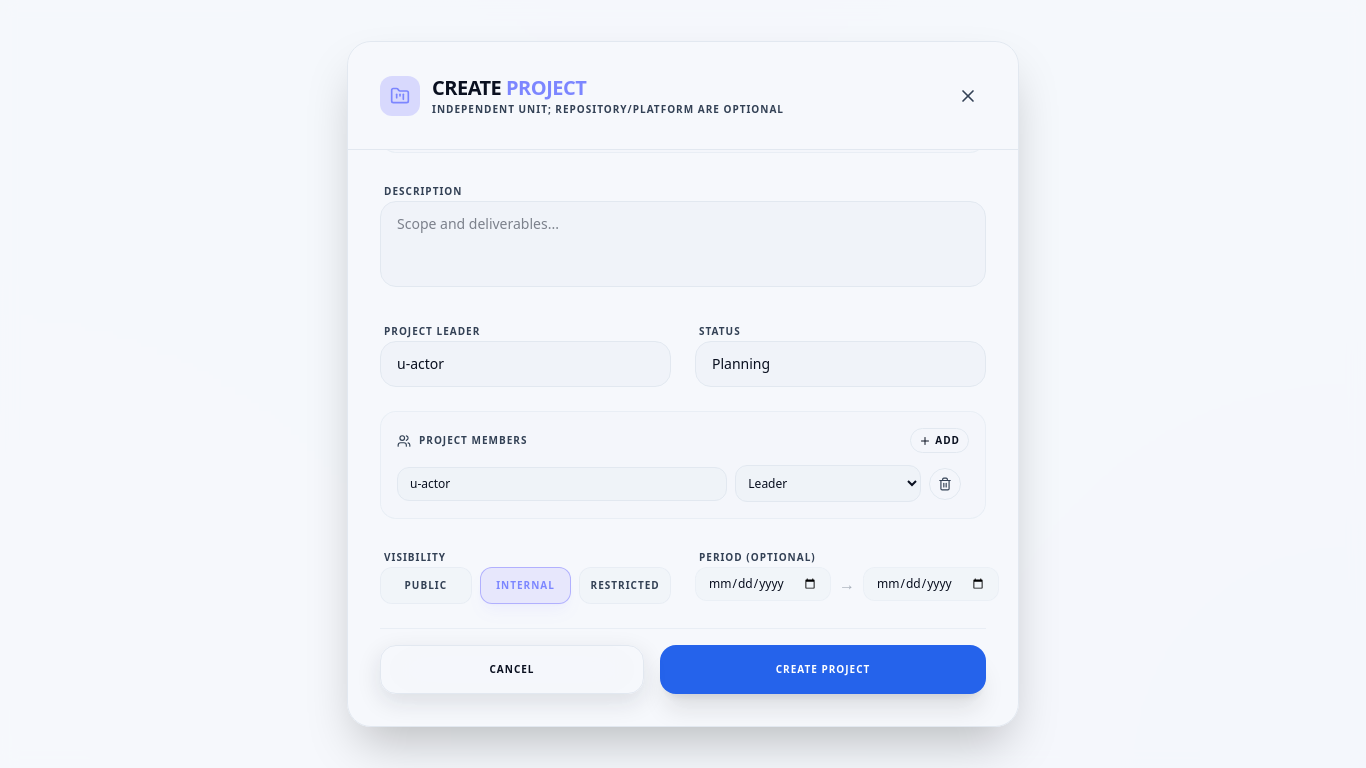
Scenario: ProjectCreationModal › changes a non-leader role without affecting leader assignment
The image size is (1366, 768).
(page scrolled)
Click the button "Add" at (940, 440), box [910,428,969,453]
(page scrolled)
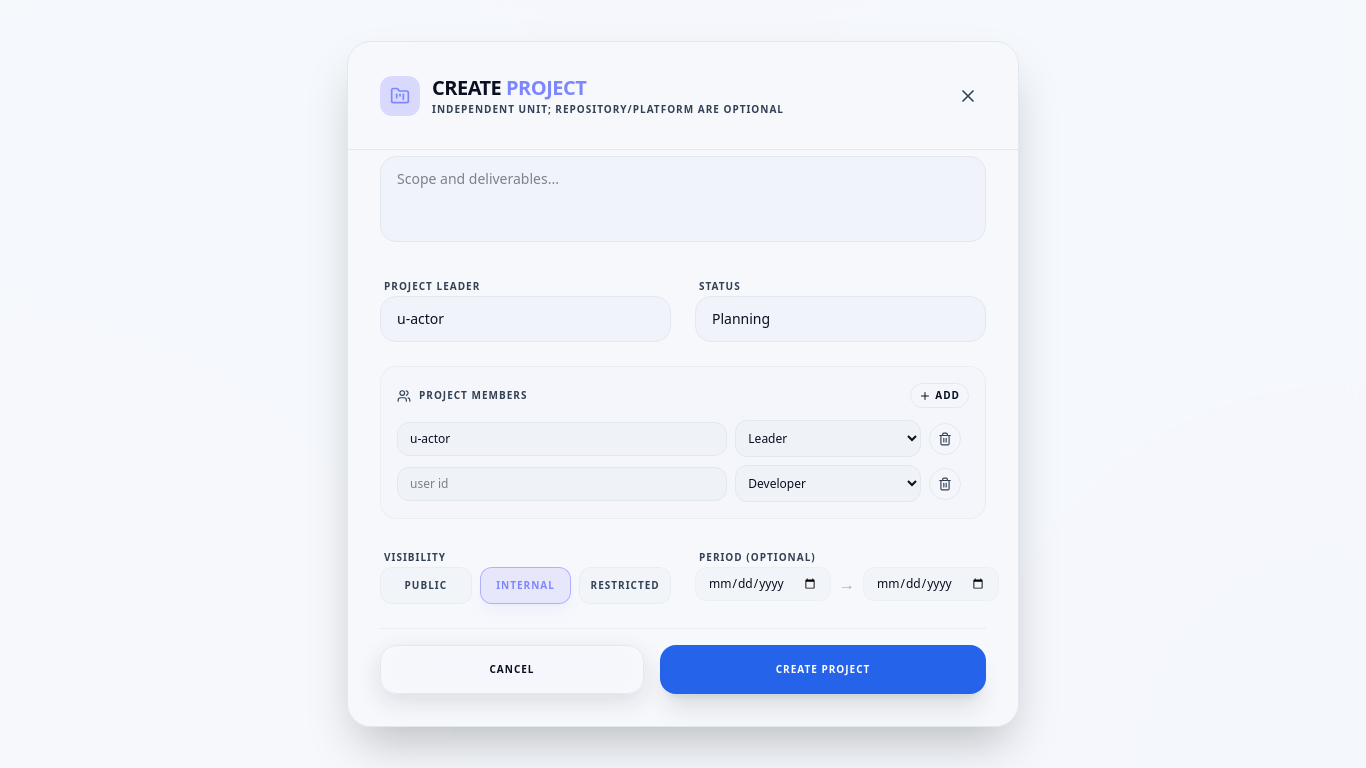
Select "Reviewer" in the 3rd dropdown at (828, 484), box [735,465,921,502]
(page scrolled)
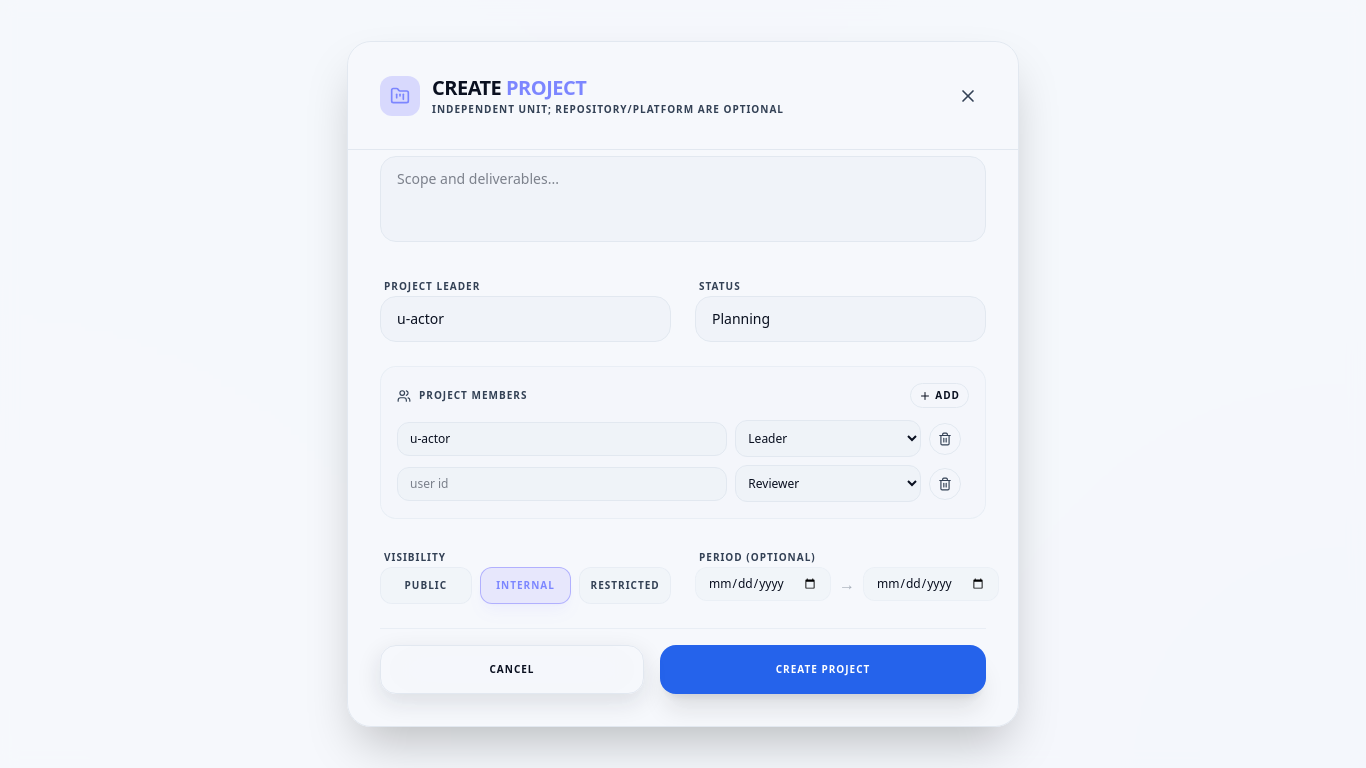
expect the 2nd dropdown shows "Leader": met, box [735,420,921,457]
expect the 3rd dropdown shows "Reviewer": met, box [735,465,921,502]
